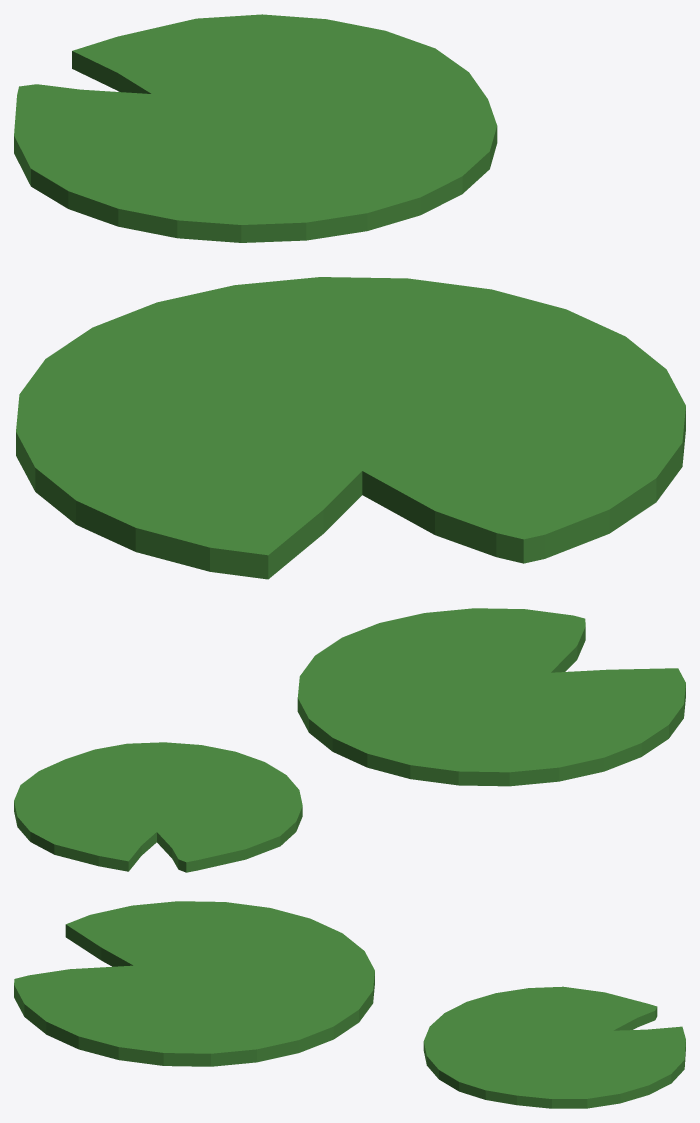
Rendered from Lily group 1.fbx.
The picture shows the model from 3 angles, top to bottom: view 1: azimuth 30°, elevation 25°; view 2: azimuth 150°, elevation 25°; view 3: azimuth 270°, elevation 25°; orthographic projection. The views are drawn at different scales.
Visible parts, largest first — view 1: Lily group 1; view 2: Lily group 1; view 3: Lily group 1.
Boxes of the visible parts, left/top/right/bottom form: Lily group 1: left=14, top=14, right=685, bottom=579; Lily group 1: left=14, top=608, right=685, bottom=872; Lily group 1: left=14, top=901, right=685, bottom=1108.
Size of the model in its own units: 4.44 by 0.1389 by 6.48.
